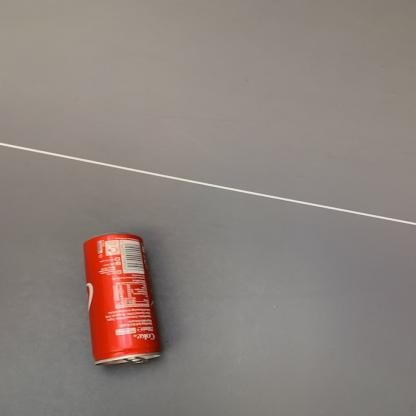trash: (84, 234, 159, 364)
